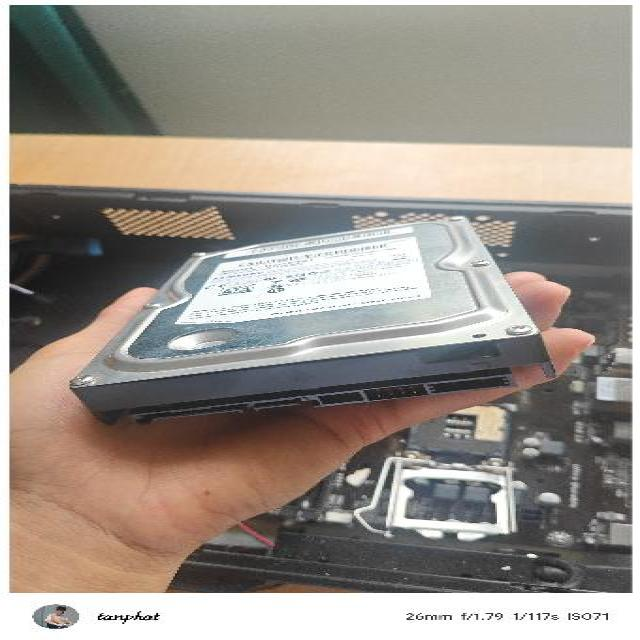DISK: (57, 212, 564, 425)
